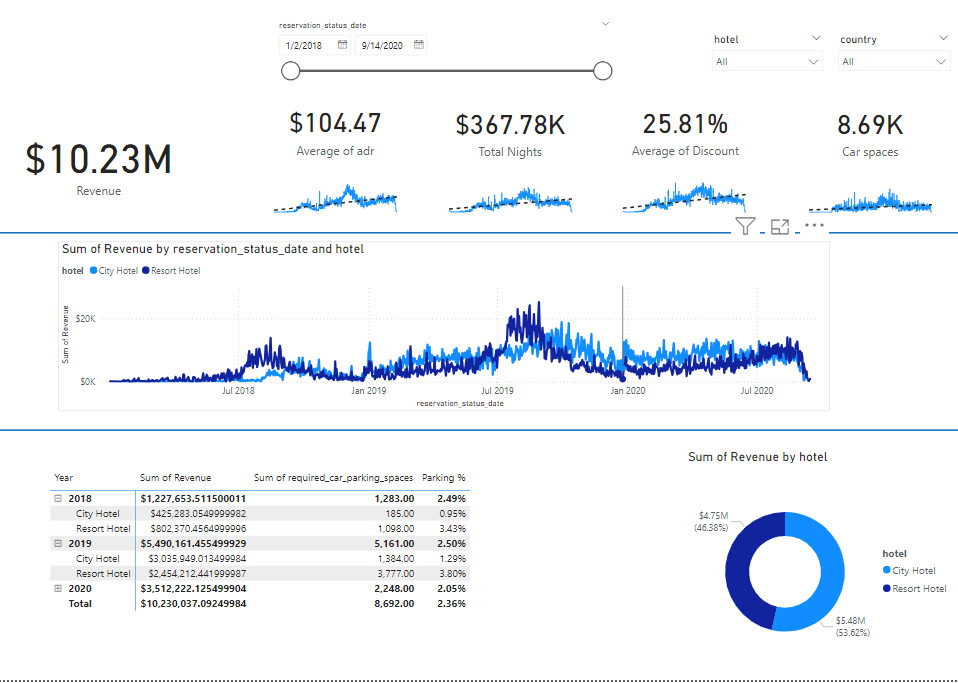

The page's visual inventory and layout, read from the dashboard file:
{"tool":"powerbi","page":{"name":"Page 1","canvas":[1280,920],"ordinal":0},"visuals":[{"type":"shape","box":[0,297.6,1280.3,50.8],"z":0},{"type":"shape","box":[0,561.6,1280.3,50.3],"z":1000},{"type":"card","fields":{"Values":["Sum(Query1.Revenue)"]},"box":[0,153.1,268.8,150],"z":2000},{"type":"card","fields":{"Values":["Avg(Query1.adr)"]},"box":[333.7,110.8,233,149.6],"z":3000},{"type":"card","fields":{"Values":["Query1.Total Nights"]},"box":[566.8,112.2,233,149.6],"z":4000},{"type":"card","fields":{"Values":["Avg(Query1.Discount)"]},"box":[799.8,110.8,233,151],"z":5000},{"type":"lineChart","fields":{"Category":["Query1.reservation_status_date"],"Y":["Sum(Query1.Revenue)"],"Series":["Query1.hotel"]},"box":[80.6,334.3,1030,227.3],"z":6000},{"type":"slicer","fields":{"Values":["Query1.country"]},"box":[1110.5,51.8,169.7,76.2],"z":7000},{"type":"slicer","fields":{"Values":["Query1.hotel"]},"box":[942.2,51.8,168.3,76.2],"z":8000},{"type":"slicer","fields":{"Values":["Query1.country"]},"box":[1110.5,51.8,169.7,76.2],"z":9000},{"type":"lineChart","fields":{"Category":["Query1.reservation_status_date"],"Y":["Sum(Query1.adr)"]},"box":[353.1,240.6,193.8,62.5],"z":10000},{"type":"lineChart","fields":{"Category":["Query1.reservation_status_date"],"Y":["Query1.Total Nights"]},"box":[585.9,240.6,193.8,62.5],"z":11000},{"type":"lineChart","fields":{"Category":["Query1.reservation_status_date"],"Y":["Sum(Query1.Discount)"]},"box":[818.8,240.6,193.8,62.5],"z":12000},{"type":"card","fields":{"Values":["Sum(Query1.required_car_parking_spaces)"]},"box":[1047.3,112.2,233,151],"z":13000},{"type":"lineChart","fields":{"Category":["Query1.reservation_status_date"],"Y":["Sum(Query1.required_car_parking_spaces)"]},"box":[1067.2,240.6,193.8,62.5],"z":14000},{"type":"donutChart","fields":{"Category":["Query1.hotel"],"Y":["Sum(Query1.Revenue)"]},"box":[915.6,610.9,364.1,309.4],"z":15000},{"type":"pivotTable","fields":{"Rows":["Query1.reservation_status_date.Variation.Date Hierarchy.Year","Query1.hotel"],"Values":["Sum(Query1.Revenue)","Sum(Query1.required_car_parking_spaces)","Query1.Parking %"]},"box":[65.6,632.8,595.3,267.2],"z":16000},{"type":"slicer","fields":{"Values":["Query1.reservation_status_date"]},"box":[361.6,34.3,465.7,93.8],"z":17000}]}

Visuals, with their boxes in screenshot pixels (x1, y1, x2, y2), scaled from the page's 1280x920 canvas onto the 958x683 screenshot:
shape: (x1=0, y1=221, x2=957, y2=259)
shape: (x1=0, y1=417, x2=957, y2=454)
card - Sum(Query1.Revenue): (x1=0, y1=114, x2=201, y2=225)
card - Avg(Query1.adr): (x1=250, y1=82, x2=424, y2=193)
card - Query1.Total Nights: (x1=424, y1=83, x2=599, y2=194)
card - Avg(Query1.Discount): (x1=599, y1=82, x2=773, y2=194)
lineChart - Query1.reservation_status_date x Sum(Query1.Revenue): (x1=60, y1=248, x2=831, y2=417)
slicer - Query1.country: (x1=831, y1=38, x2=957, y2=95)
slicer - Query1.hotel: (x1=705, y1=38, x2=831, y2=95)
slicer - Query1.country: (x1=831, y1=38, x2=957, y2=95)
lineChart - Query1.reservation_status_date x Sum(Query1.adr): (x1=264, y1=179, x2=409, y2=225)
lineChart - Query1.reservation_status_date x Query1.Total Nights: (x1=439, y1=179, x2=584, y2=225)
lineChart - Query1.reservation_status_date x Sum(Query1.Discount): (x1=613, y1=179, x2=758, y2=225)
card - Sum(Query1.required_car_parking_spaces): (x1=784, y1=83, x2=957, y2=195)
lineChart - Query1.reservation_status_date x Sum(Query1.required_car_parking_spaces): (x1=799, y1=179, x2=944, y2=225)
donutChart - Query1.hotel x Sum(Query1.Revenue): (x1=685, y1=454, x2=957, y2=682)
pivotTable - Query1.reservation_status_date.Variation.Date Hierarchy.Year x Query1.hotel: (x1=49, y1=470, x2=495, y2=668)
slicer - Query1.reservation_status_date: (x1=271, y1=25, x2=619, y2=95)
